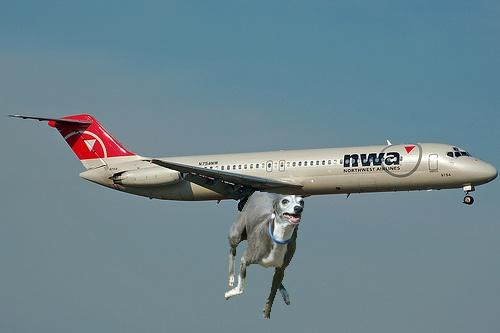tampered: (226, 192, 304, 319)
